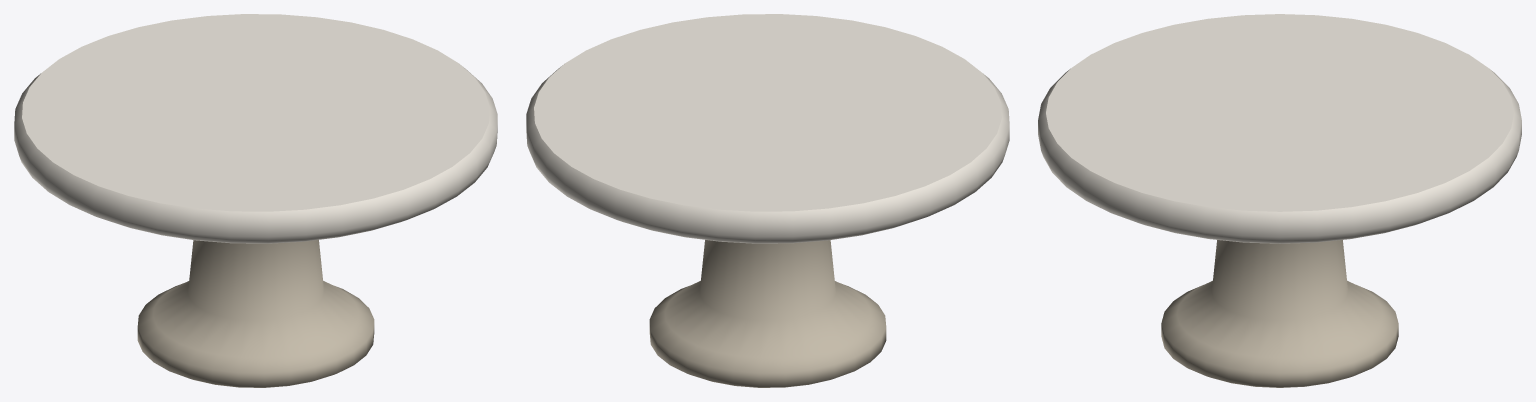
File: table-white.glb
3 views of the same model, side by side, from view 1: azimuth 30°, elevation 25°; view 2: azimuth 150°, elevation 25°; view 3: azimuth 270°, elevation 25° (orthographic).
Parts seen in each view (by area): view 1: table-white; view 2: table-white; view 3: table-white.
Boxes of the visible parts, x1,y1,x2,y2 form: table-white: [14, 14, 497, 387]; table-white: [526, 14, 1009, 387]; table-white: [1038, 14, 1521, 387].
Size of the model in its own units: 1 by 0.52 by 1.
